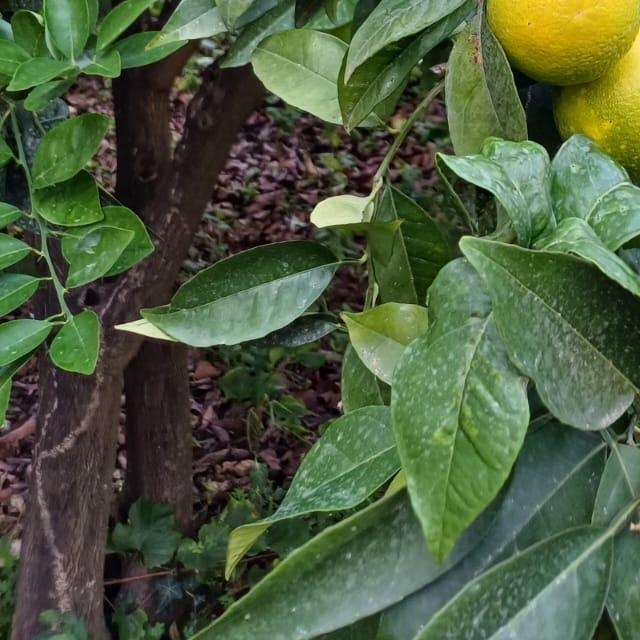orange: (539, 13, 640, 167), (480, 0, 640, 87)
